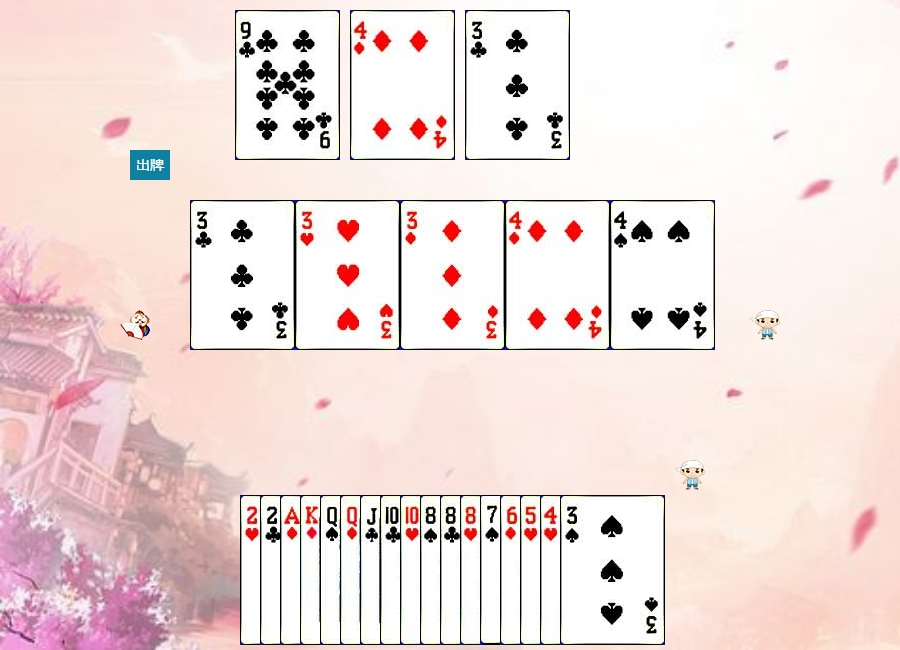10~2: (380, 495, 485, 645)
10~3: (400, 495, 505, 645)
11~2: (360, 495, 465, 645)
12~1: (340, 495, 445, 645)
12~4: (320, 495, 425, 645)
13~1: (300, 495, 405, 645)
14~1: (280, 495, 385, 645)
15~2: (260, 495, 365, 645)
15~3: (240, 495, 345, 645)
3~1: (400, 200, 505, 350)
3~2: (465, 10, 570, 160), (190, 200, 295, 350)
3~3: (295, 200, 400, 350)
3~4: (560, 495, 665, 645)
4~1: (350, 10, 455, 160), (505, 200, 610, 350)
4~3: (540, 495, 645, 645)
4~4: (610, 200, 715, 350)
5~3: (520, 495, 625, 645)
6~1: (500, 495, 605, 645)
7~4: (480, 495, 585, 645)
8~2: (440, 495, 545, 645)
8~3: (460, 495, 565, 645)
8~4: (420, 495, 525, 645)
9~2: (235, 10, 340, 160)
